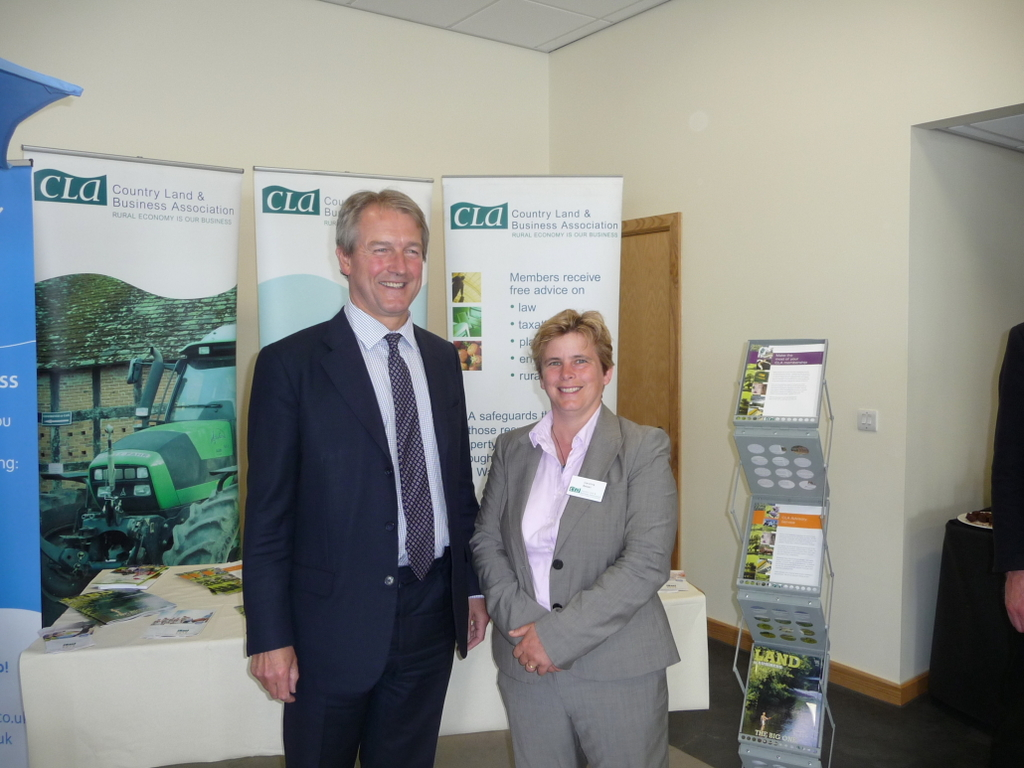Human-face: (348, 201, 427, 313), (535, 326, 607, 417)
